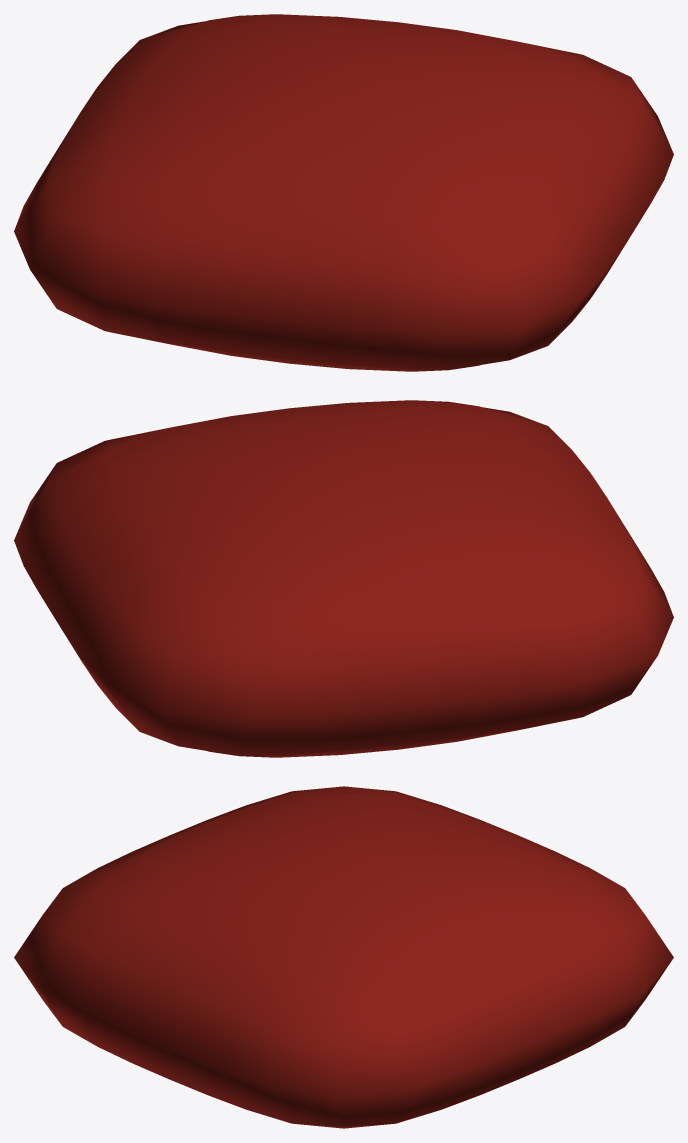
Rendered from p2_piece.fbx.
3 views of the same model, one above another, from view 1: azimuth 30°, elevation 25°; view 2: azimuth 150°, elevation 25°; view 3: azimuth 270°, elevation 25° (orthographic). The views are drawn at different scales.
Visible parts, largest first — view 1: p2_piece_geo; view 2: p2_piece_geo; view 3: p2_piece_geo.
Part boxes in pixels (left/top/right/bottom): p2_piece_geo: left=14, top=14, right=673, bottom=371; p2_piece_geo: left=14, top=400, right=673, bottom=757; p2_piece_geo: left=14, top=786, right=673, bottom=1128.
Size of the model in its own units: 27.05 by 10 by 27.05.
